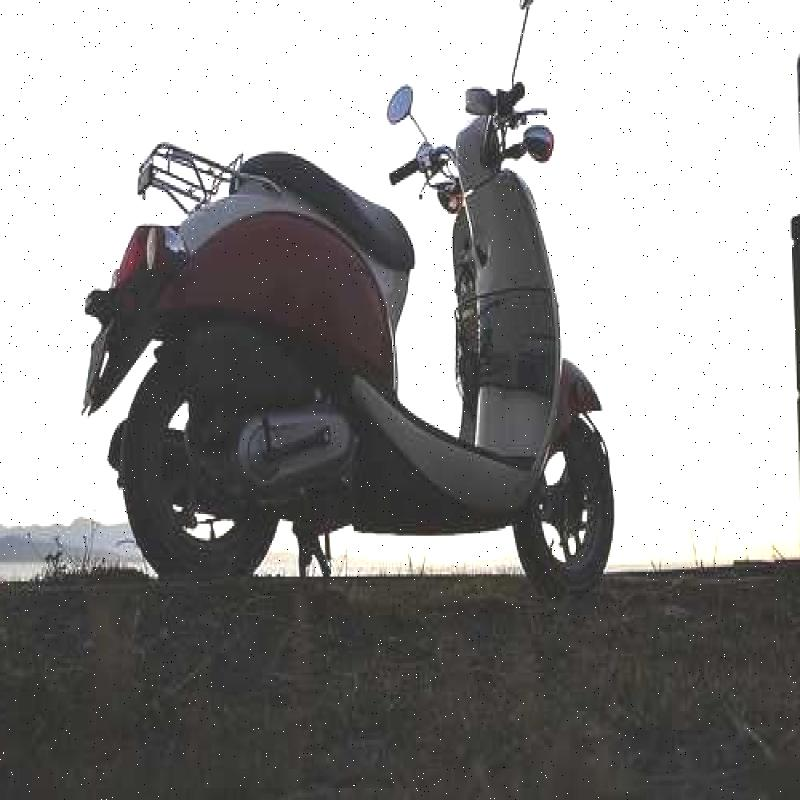bike: (72, 50, 663, 604)
